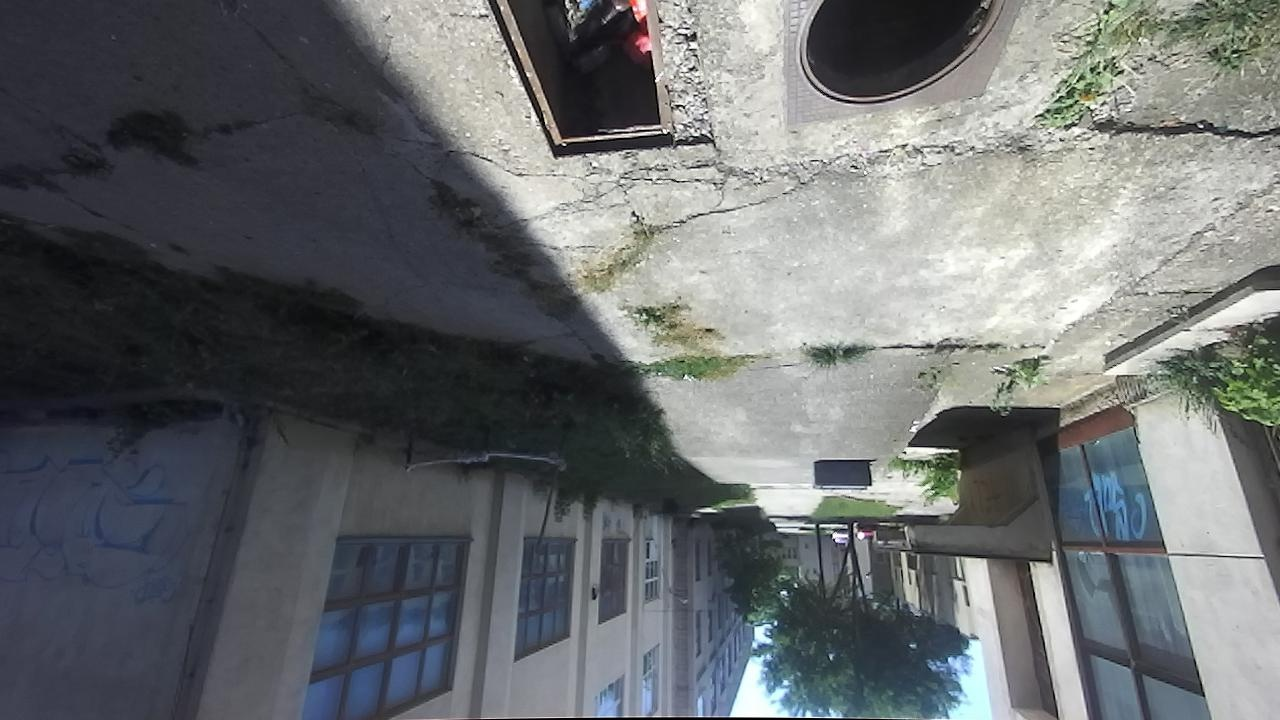drain: (479, 0, 680, 158), (792, 0, 1004, 117)
